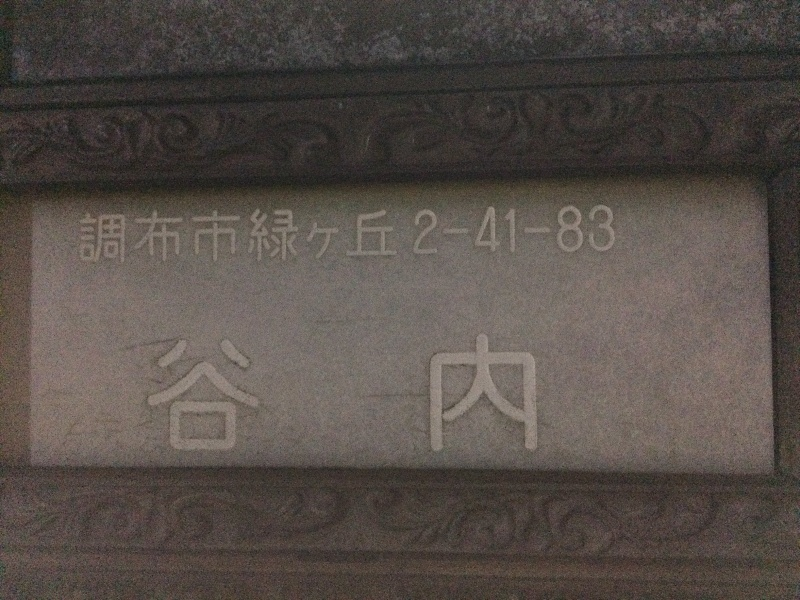text: (161, 333, 176, 457), (177, 333, 192, 457), (193, 333, 208, 457), (209, 333, 224, 457), (225, 333, 240, 457), (241, 333, 256, 457), (257, 333, 272, 457), (273, 333, 288, 457), (289, 333, 304, 457), (305, 333, 320, 457), (321, 333, 336, 457), (337, 333, 352, 457), (353, 333, 368, 457), (369, 333, 384, 457), (385, 333, 400, 457), (401, 333, 416, 457), (417, 333, 432, 457), (433, 333, 448, 457), (449, 333, 464, 457), (465, 333, 480, 457), (481, 333, 496, 457), (497, 333, 512, 457), (513, 333, 528, 457), (147, 333, 160, 457), (529, 333, 541, 457), (81, 204, 96, 267), (97, 204, 112, 267), (113, 204, 128, 267), (129, 204, 144, 267), (145, 204, 160, 267), (161, 204, 176, 267), (177, 204, 192, 267), (193, 204, 208, 267), (209, 204, 224, 267), (225, 204, 240, 267), (241, 204, 256, 267), (257, 204, 272, 267), (273, 204, 288, 267), (289, 204, 304, 267), (305, 204, 320, 267), (321, 204, 336, 267), (337, 204, 352, 267), (353, 204, 368, 267), (369, 204, 384, 267), (385, 204, 400, 267), (401, 204, 416, 267), (417, 204, 432, 267), (433, 204, 448, 267), (449, 204, 464, 267), (465, 204, 480, 267), (481, 204, 496, 267), (497, 204, 512, 267), (513, 204, 528, 267), (529, 204, 544, 267), (545, 204, 560, 267), (561, 204, 576, 267), (577, 204, 592, 267), (593, 204, 608, 267), (609, 204, 617, 267), (79, 204, 80, 267)
